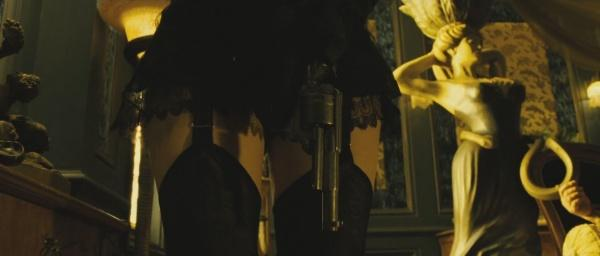Gun: (293, 58, 345, 233)
